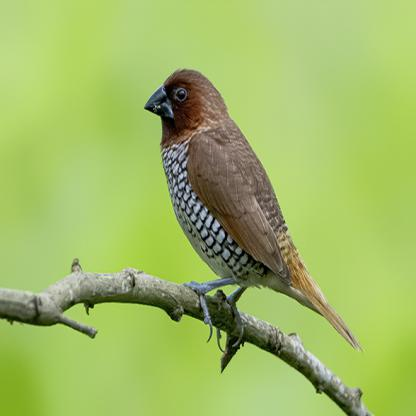Burung: (143, 68, 363, 353)
